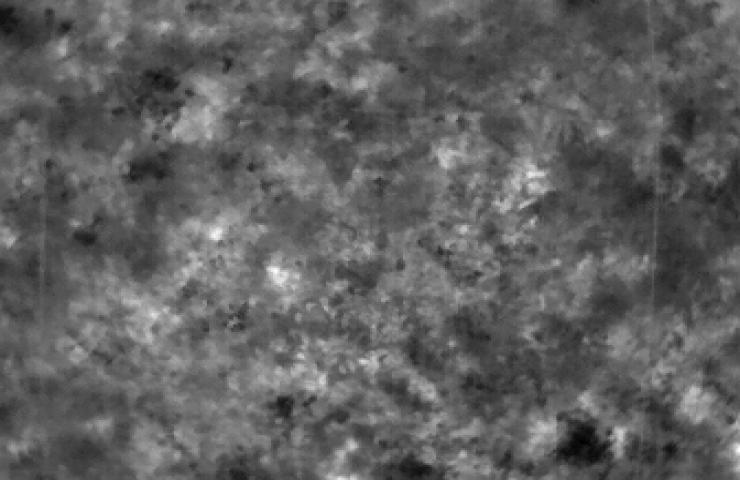landmines: (265, 264, 299, 292)
